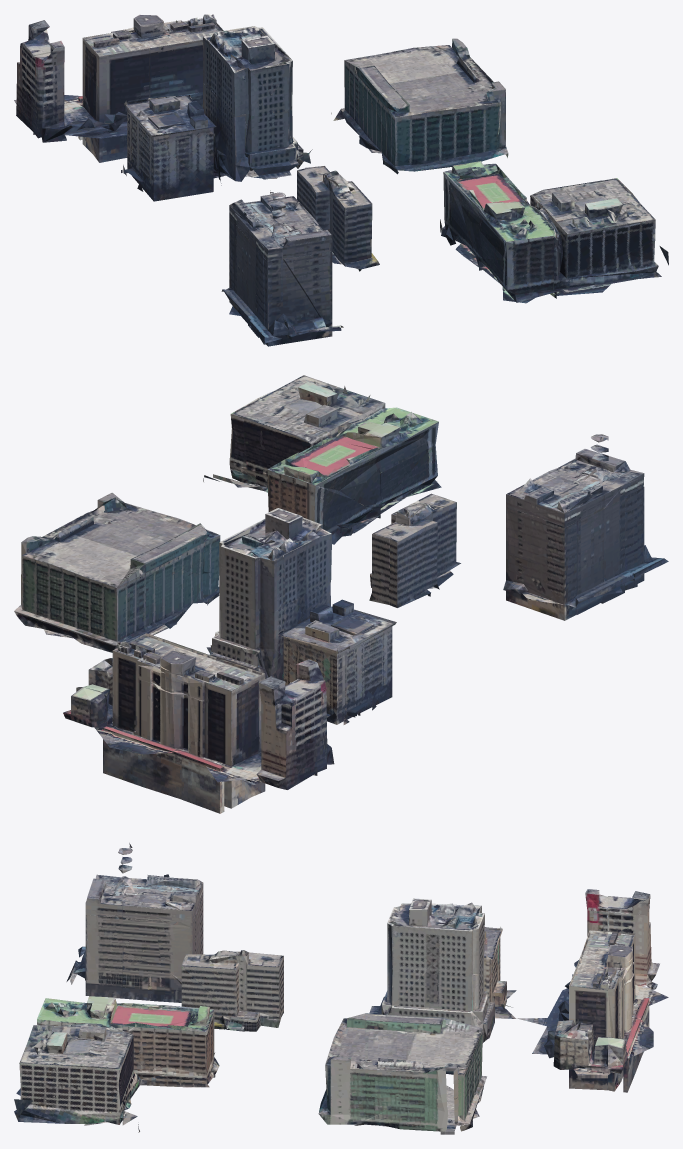
Rendered from All改.gltf.
3 views of the same model, one above another, from view 1: azimuth 30°, elevation 25°; view 2: azimuth 150°, elevation 25°; view 3: azimuth 270°, elevation 25° (orthographic). The views are drawn at different scales.
Visible parts, largest first — view 1: 对象006, 对象002, 对象003, 对象001, 对象004, 对象005; view 2: 对象003, 对象006, 对象002, 对象001, 对象004, 对象005; view 3: 对象006, 对象001, 对象003, 对象004, 对象002, 对象005.
Part boxes in pixels (bbox=[...]): 对象006: bbox=[440, 161, 668, 303]; 对象002: bbox=[121, 26, 312, 201]; 对象003: bbox=[14, 14, 223, 162]; 对象001: bbox=[331, 38, 508, 174]; 对象004: bbox=[221, 190, 343, 346]; 对象005: bbox=[297, 166, 379, 271]; 对象003: bbox=[63, 633, 334, 813]; 对象006: bbox=[203, 375, 441, 544]; 对象002: bbox=[206, 508, 396, 724]; 对象001: bbox=[14, 492, 220, 652]; 对象004: bbox=[503, 434, 668, 620]; 对象005: bbox=[369, 493, 460, 607]; 对象006: bbox=[14, 996, 219, 1132]; 对象001: bbox=[318, 1013, 486, 1134]; 对象003: bbox=[517, 889, 668, 1092]; 对象004: bbox=[66, 843, 203, 1002]; 对象002: bbox=[369, 898, 516, 1043]; 对象005: bbox=[181, 950, 283, 1031].
Bounding box in the file's own units: 1.56 × 0.6469 × 2.36.
Materials: 14 (14 with a texture image).
